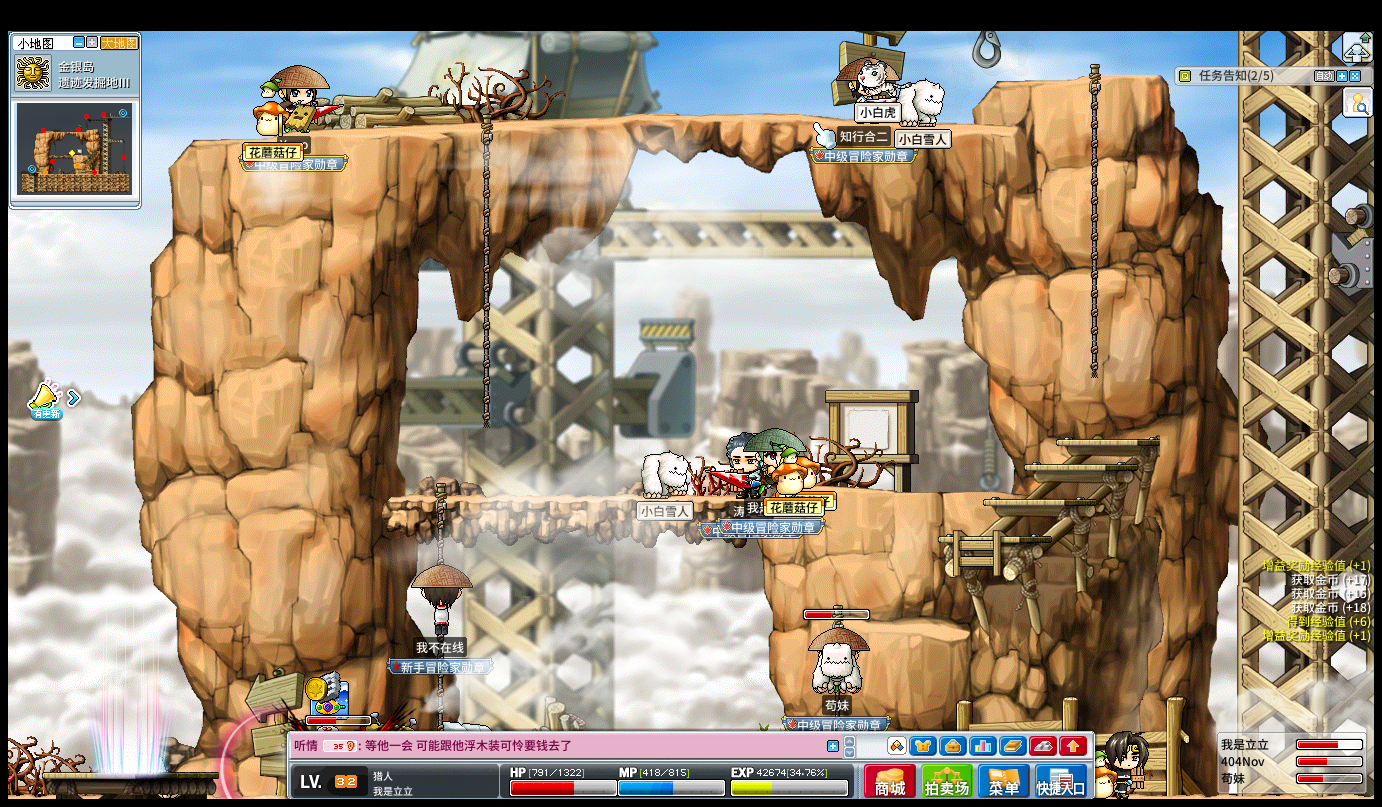floor: (178, 109, 1038, 143), (385, 494, 761, 505), (863, 619, 969, 640), (994, 71, 1165, 84), (992, 74, 1164, 86), (869, 488, 1026, 499), (936, 533, 1051, 543), (1057, 436, 1159, 447), (979, 495, 1089, 505), (1019, 462, 1135, 471), (984, 498, 1096, 506)
rope: (1087, 58, 1100, 383), (480, 115, 492, 426), (431, 481, 446, 566)
